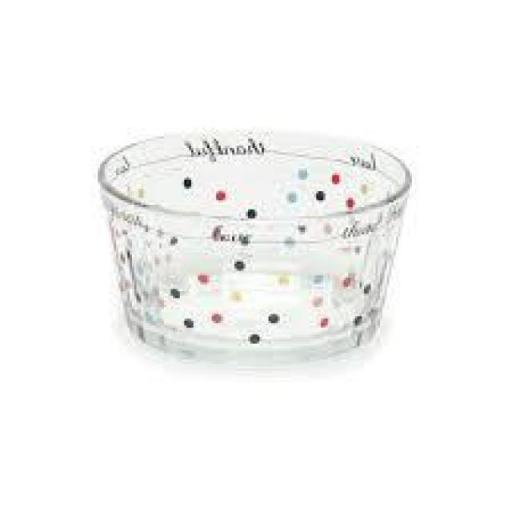glass: (56, 104, 453, 387)
